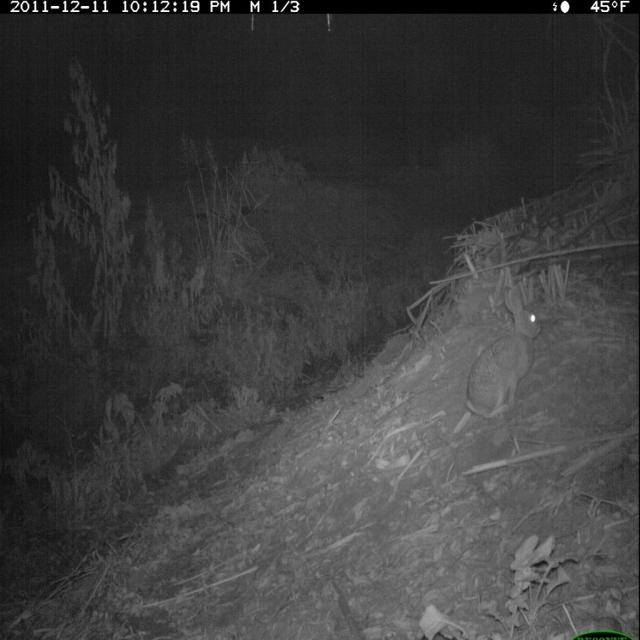rabbit: (464, 278, 550, 426)
